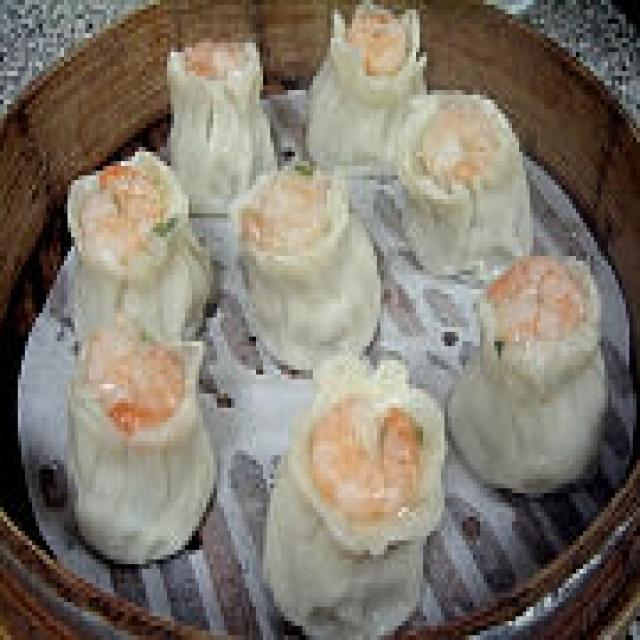带馅早点: (53, 0, 598, 631)
